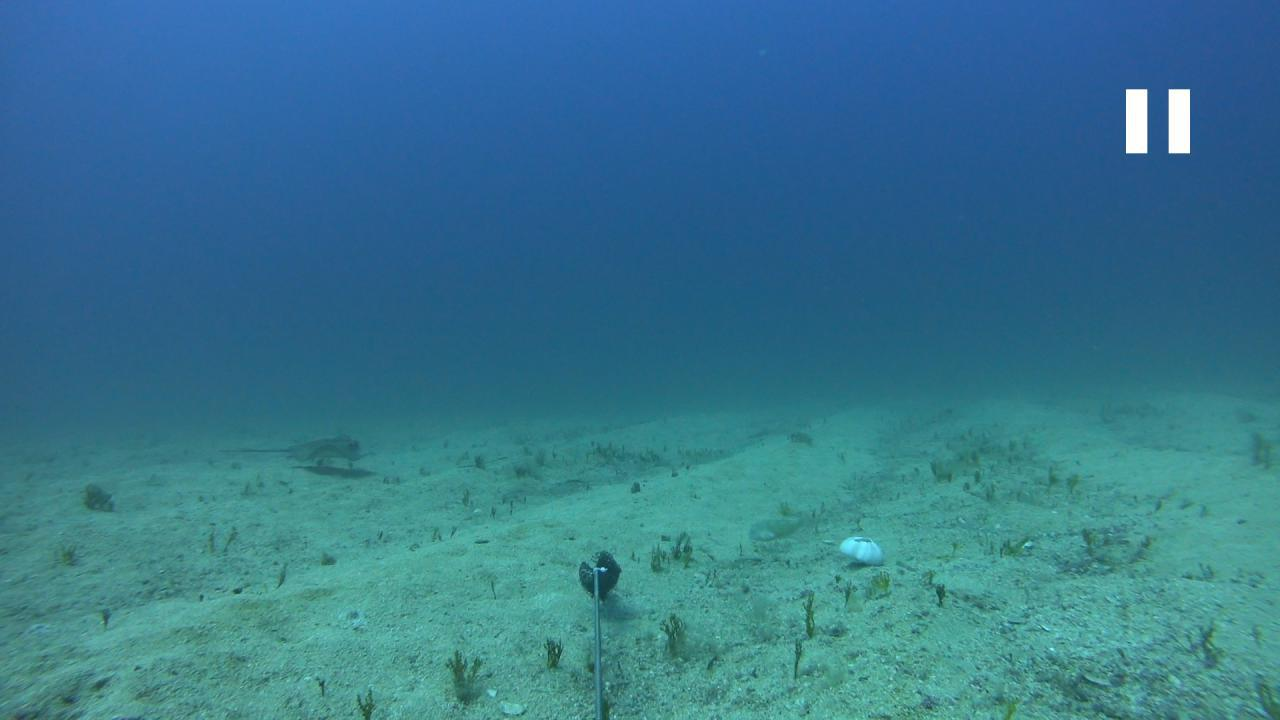dasyatis: (220, 434, 375, 464)
